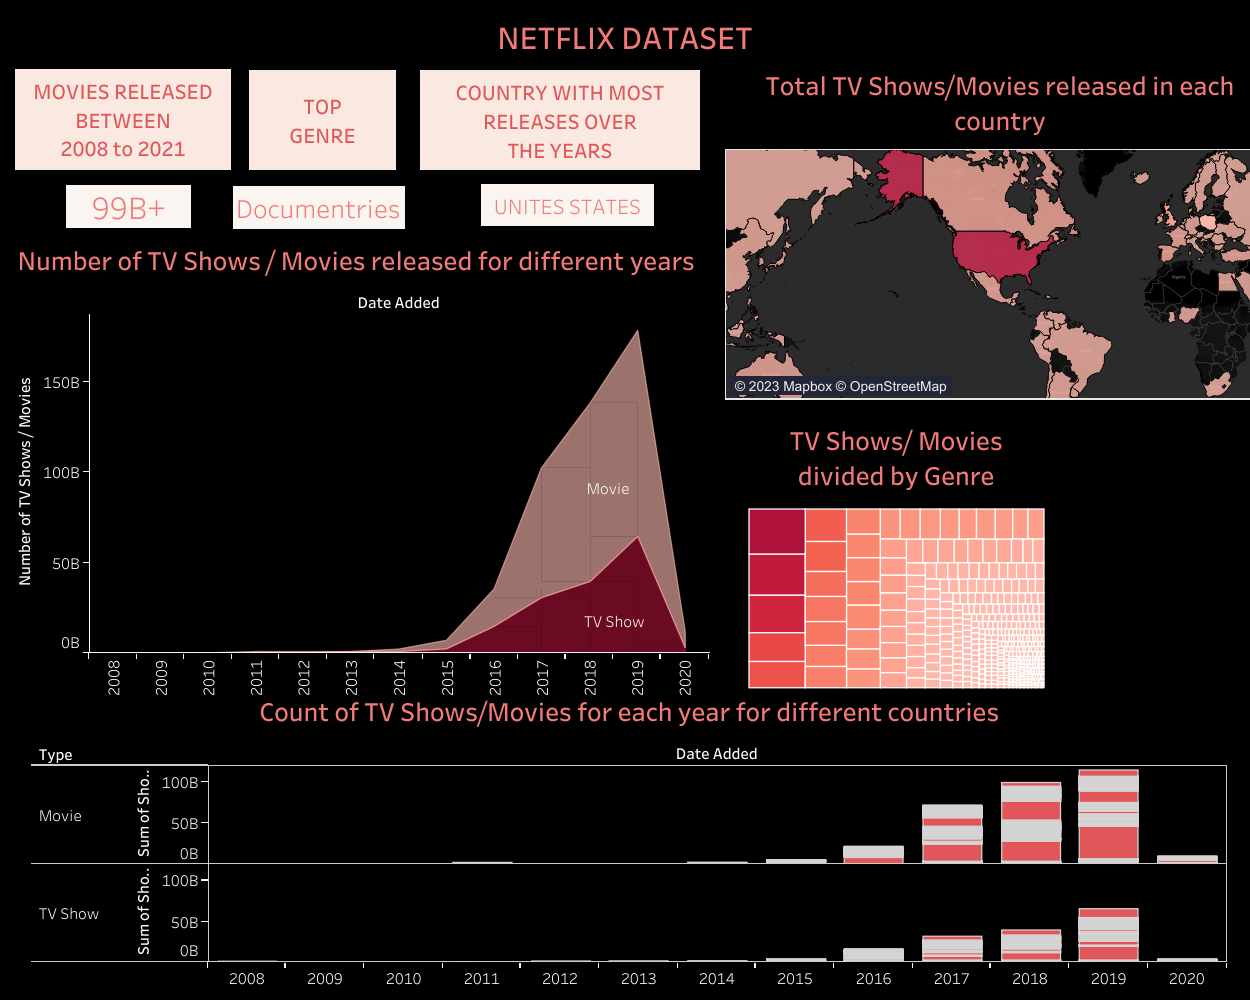

What the dashboard file says about the page in this screenshot:
{"tool":"tableau","page":{"name":"Dashboard 1","canvas":[1000,800],"ordinal":0},"visuals":[{"type":"title","box":[8,8,984,42]},{"type":"text","box":[12,55,173,81]},{"type":"text","box":[199,56,118,80]},{"type":"text","box":[336,56,224,80]},{"type":"text","box":[385,147,138,34]},{"type":"text","box":[53,148,100,34]},{"type":"text","box":[186,149,138,34]},{"type":"worksheet","title":"No. of TV shows/ movies per year","mark":"Area","rows":["show_id"],"cols":["date_added"],"box":[3,188,564,374]},{"type":"worksheet","title":"TV Shows/ movies divided by genre","mark":"Automatic","box":[595,332,386,223]},{"type":"worksheet","title":"Count of TV Shows/Movies for each year for different countries","mark":"Bar","rows":["type","show_id"],"cols":["date_added"],"box":[25,549,957,243]}]}

Visuals, with their boxes in screenshot pixels (x1, y1, x2, y2), scaled from the page's 1000x800 canvas onto the 1250x1000 screenshot:
title: l=10, t=10, r=1240, b=62
text: l=15, t=69, r=231, b=170
text: l=249, t=70, r=396, b=170
text: l=420, t=70, r=700, b=170
text: l=481, t=184, r=654, b=226
text: l=66, t=185, r=191, b=228
text: l=232, t=186, r=405, b=229
"No. of TV shows/ movies per year" worksheet (Area marks): l=4, t=235, r=709, b=702
"TV Shows/ movies divided by genre" worksheet: l=744, t=415, r=1226, b=694
"Count of TV Shows/Movies for each year for different countries" worksheet (Bar marks): l=31, t=686, r=1228, b=990
